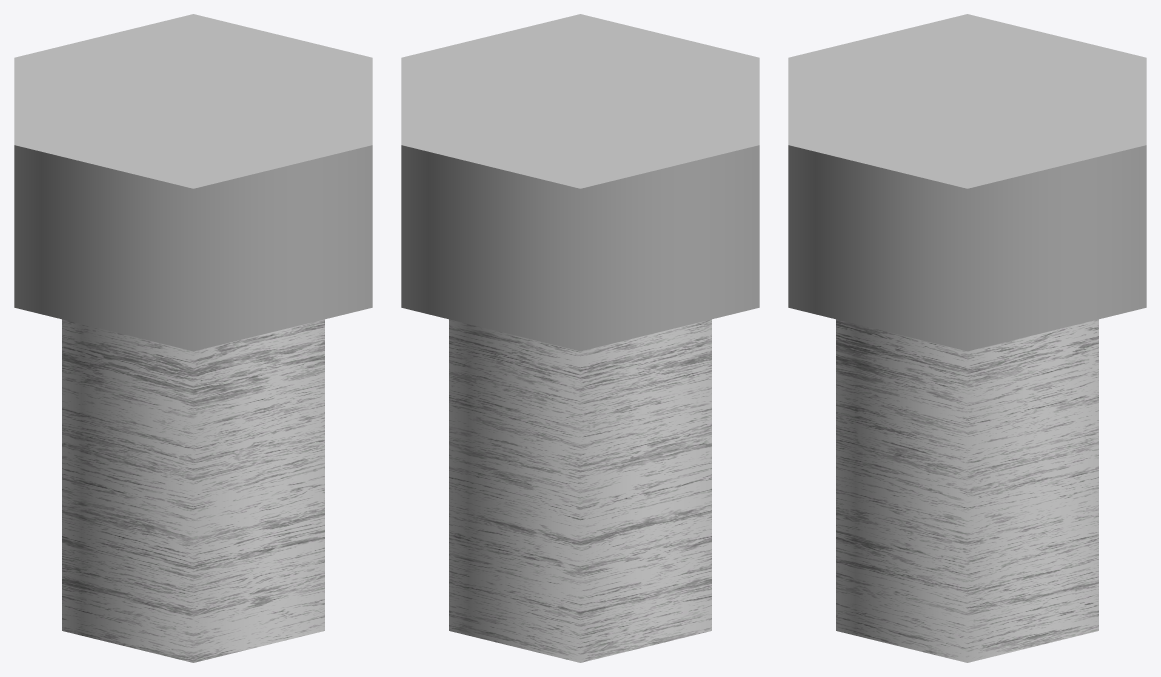
File: zhu.FBX
The picture shows the model from 3 angles, left to right: view 1: azimuth 30°, elevation 25°; view 2: azimuth 150°, elevation 25°; view 3: azimuth 270°, elevation 25°; orthographic projection.
Visible parts, largest first — view 1: zhu; view 2: zhu; view 3: zhu.
Boxes of the visible parts, x1,y1,x2,y2 form: zhu: (14,14,372,662); zhu: (401,14,759,662); zhu: (788,14,1146,662).
Bounding box in the file's own units: 299 × 396 × 259.
